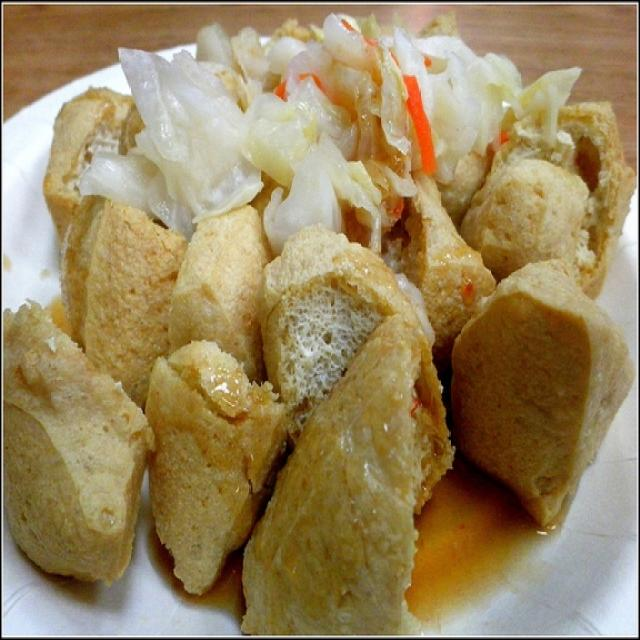豆腐料理: (13, 24, 620, 624)
